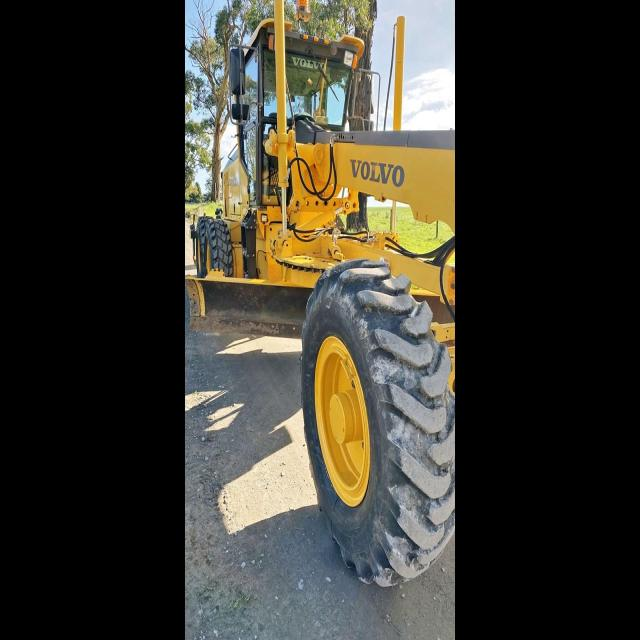buldozerpayloadergrader: (205, 6, 453, 603)
